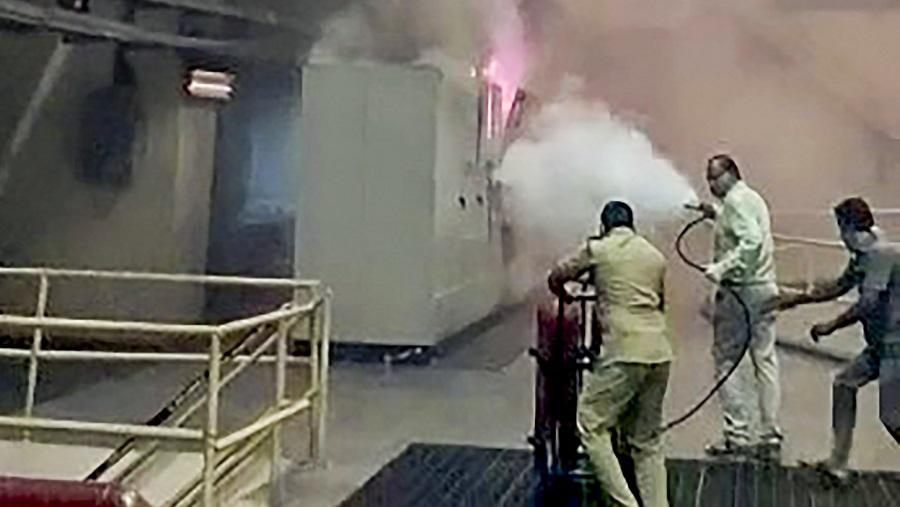Fire Extinguisher: (517, 263, 601, 487)
